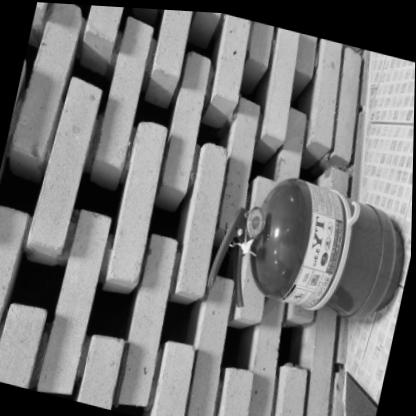FE: (201, 155, 413, 339)
